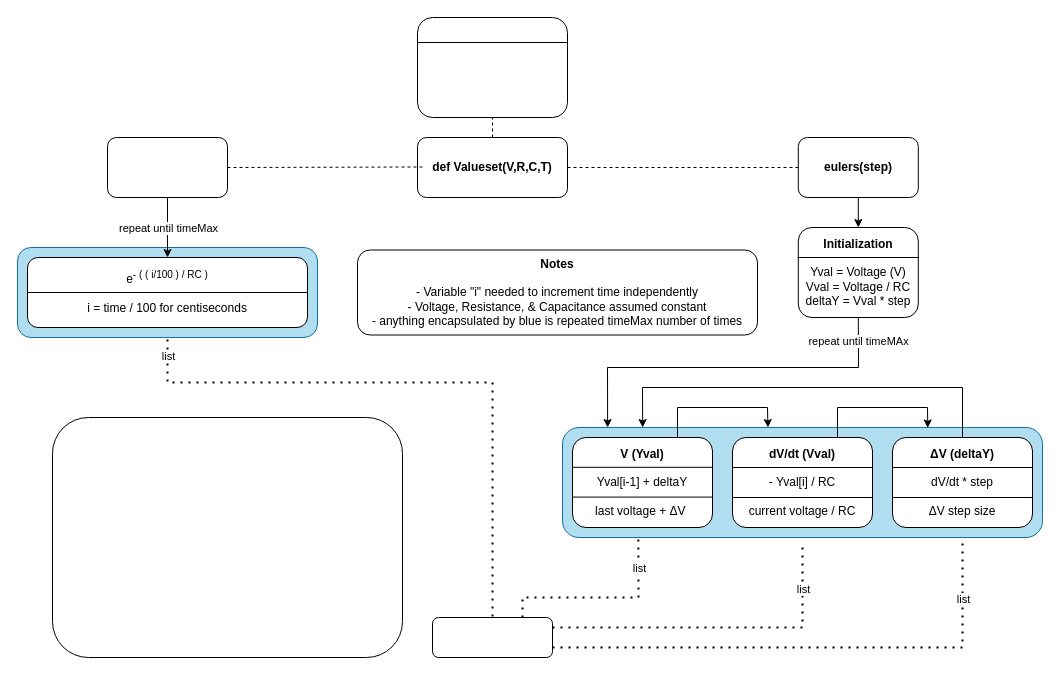
The diagram is 1060 pixels wide and 675 high, and some of its shapes have lost their labels. The shapes that lost their labels are listed below. From the top down, each one's centre as x and y in pixels, then its label:
[492,67]: Global Variables T = timeMax V =voltage R = RVal C = CVal
[167,167]: def rcsolcalc()
[227,537]: calc.py script Psuedocode Diagram
[492,637]: display
